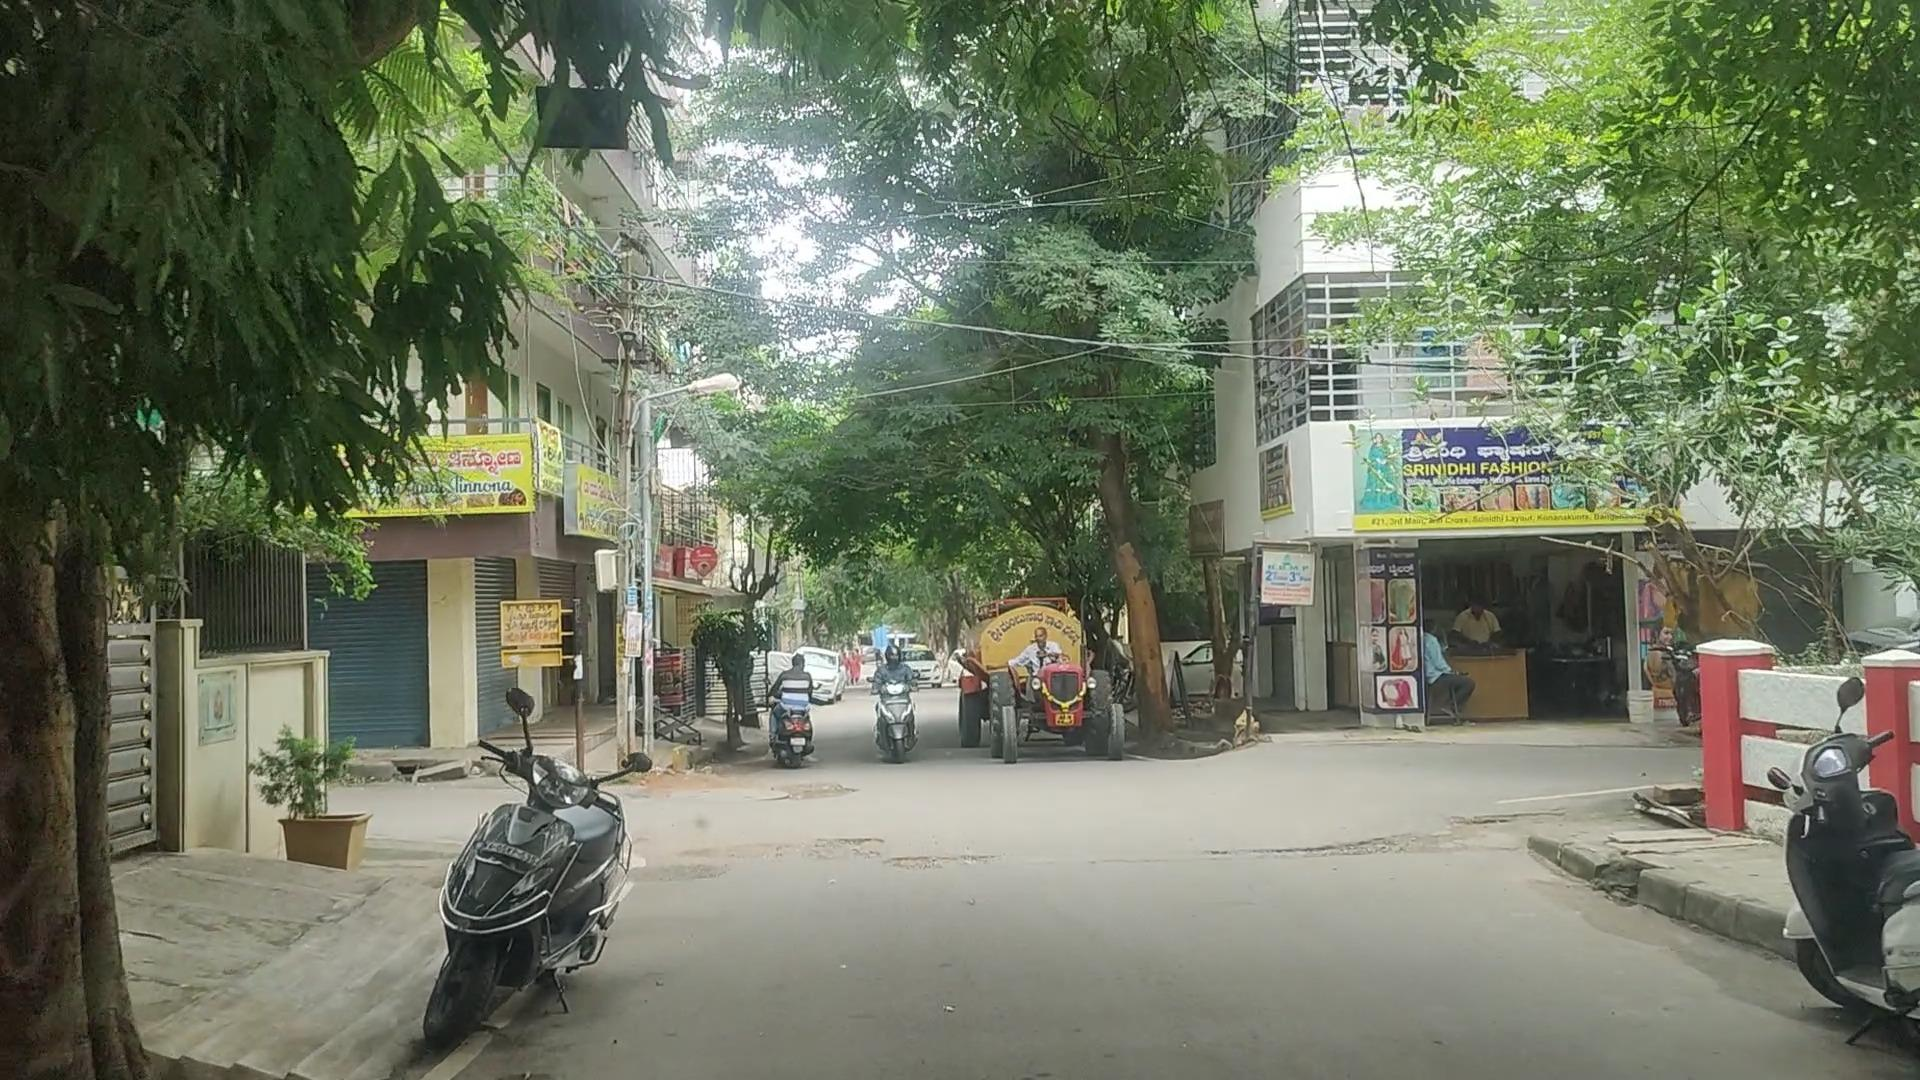LMV: (451, 711, 622, 1047)
RoadDamages: (1207, 832, 1523, 878), (698, 829, 988, 877), (765, 764, 864, 818)
